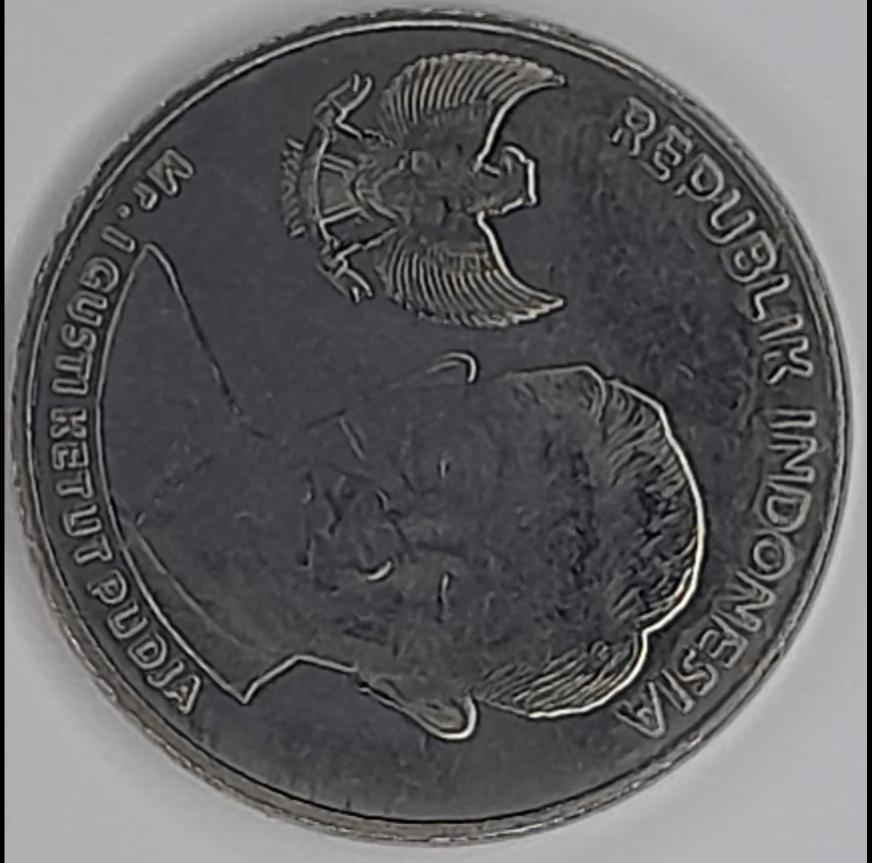coin_1000_e2016: (15, 17, 860, 863)
